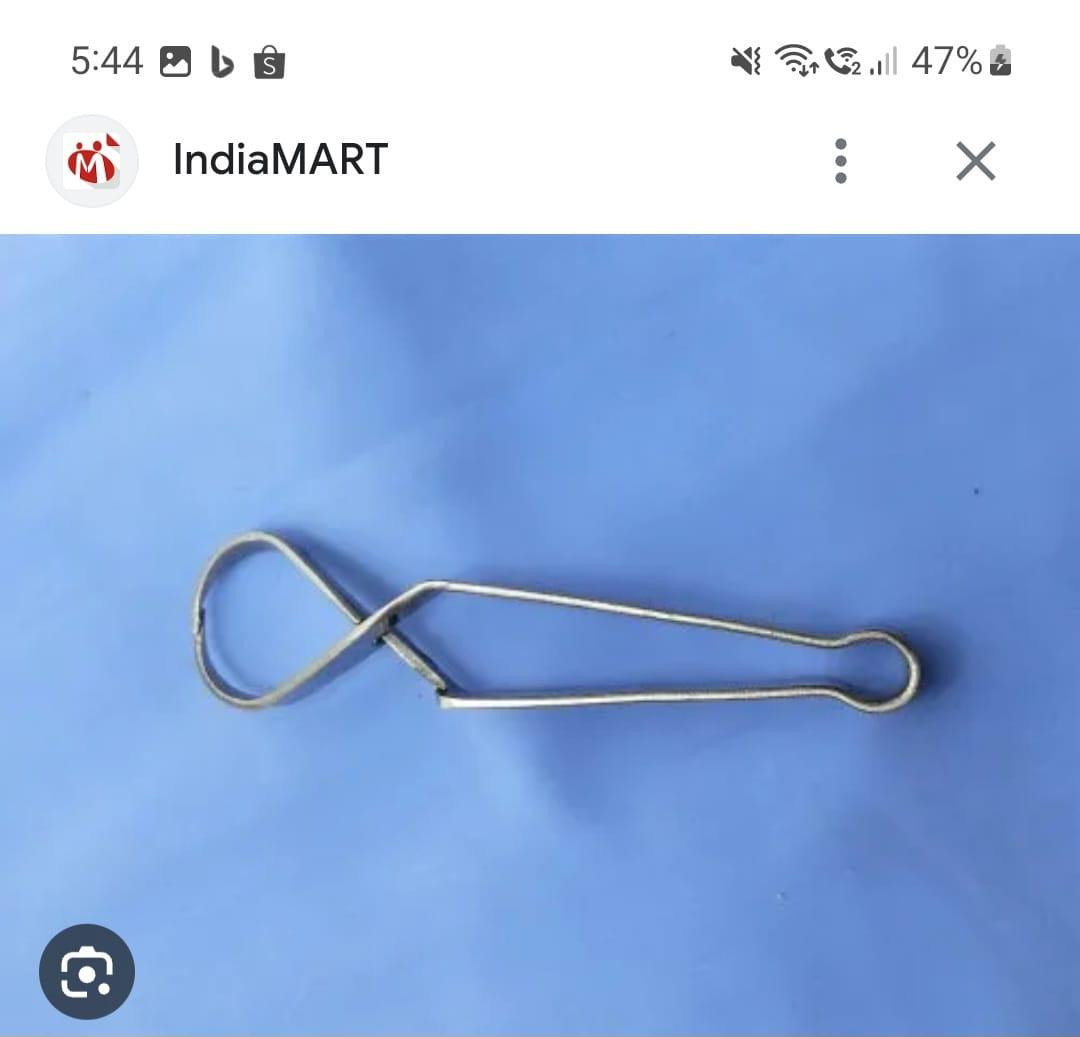Doyen Cross Action Towel Clamp: (178, 513, 932, 748)
